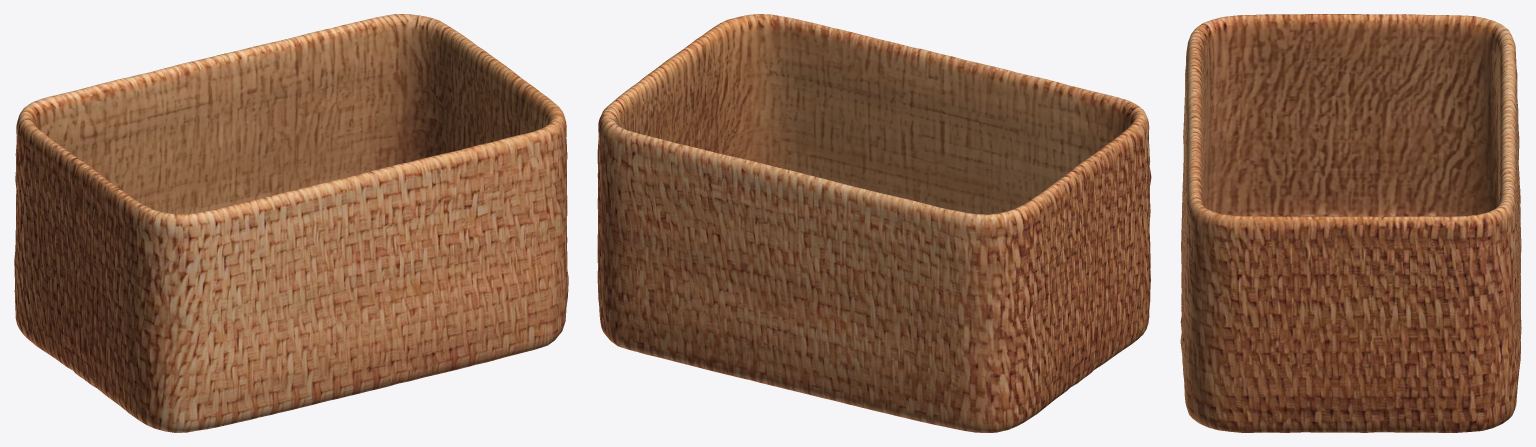
Rendered from rattan-box.glb.
3 views of the same model, side by side, from view 1: azimuth 30°, elevation 25°; view 2: azimuth 150°, elevation 25°; view 3: azimuth 270°, elevation 25° (orthographic).
Parts seen in each view (by area): view 1: tripo_node_67e8f32d-3f6f-43fa-8711-07ebe24985b3; view 2: tripo_node_67e8f32d-3f6f-43fa-8711-07ebe24985b3; view 3: tripo_node_67e8f32d-3f6f-43fa-8711-07ebe24985b3.
Part boxes in pixels (box(x1,y1,x2,y2)): tripo_node_67e8f32d-3f6f-43fa-8711-07ebe24985b3: box(14, 14, 568, 432); tripo_node_67e8f32d-3f6f-43fa-8711-07ebe24985b3: box(597, 14, 1151, 432); tripo_node_67e8f32d-3f6f-43fa-8711-07ebe24985b3: box(1180, 14, 1521, 432).
Bounding box in the file's own units: 0.26 × 0.1279 × 0.1781.
Materials: 1 (1 with a texture image).
